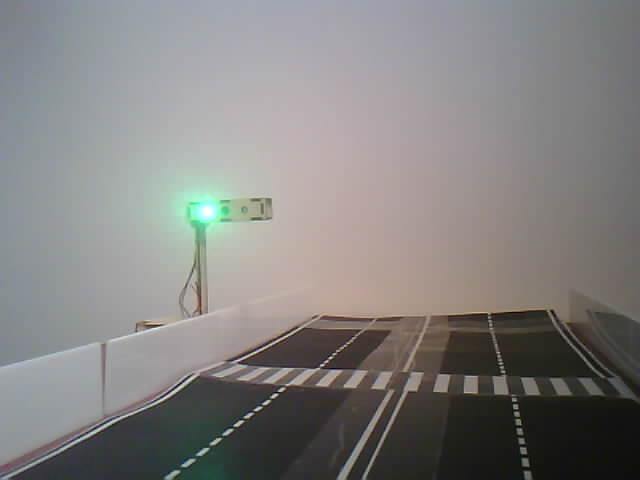crosswalk: (167, 350, 634, 404)
green: (187, 196, 286, 231)
